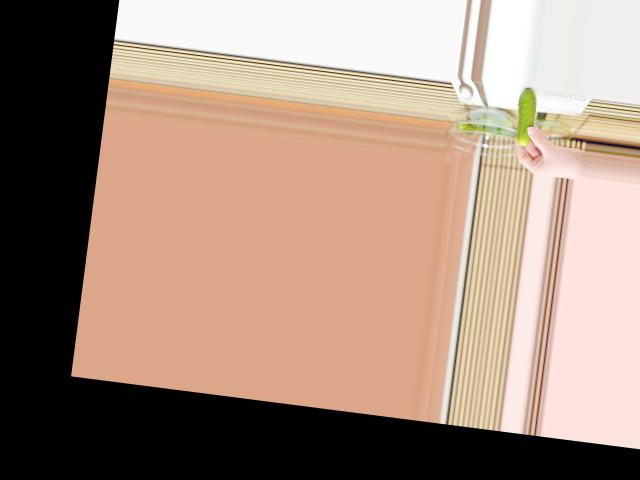cucumber: (513, 87, 538, 146)
